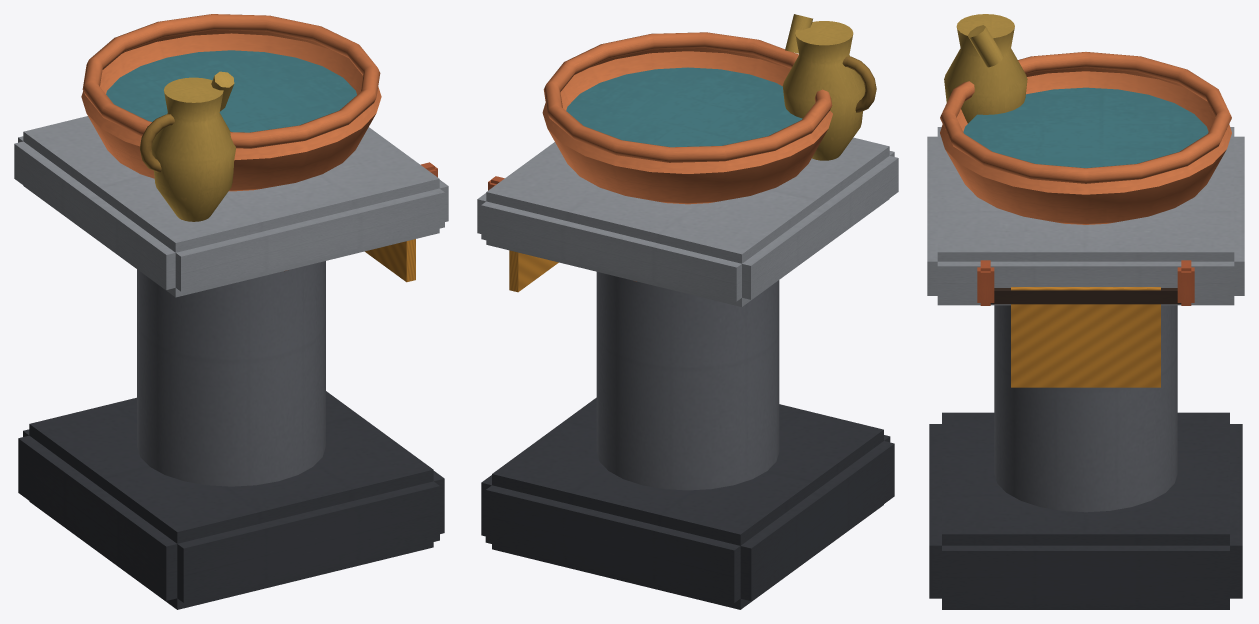
Rendered from washing_basin_copper.glb.
3 views of the same model, side by side, from view 1: azimuth 30°, elevation 25°; view 2: azimuth 150°, elevation 25°; view 3: azimuth 270°, elevation 25° (orthographic). The views are drawn at different scales.
Visible parts, largest first — view 1: washing_basin_copper; view 2: washing_basin_copper; view 3: washing_basin_copper.
Part boxes in pixels (x1,y1,x2,y2): washing_basin_copper: (14,14,448,609); washing_basin_copper: (477,14,898,609); washing_basin_copper: (927,14,1244,609).
Bounding box in the file's own units: 0.794 × 1.3 × 0.76.
Materials: 1 (1 with a texture image).
